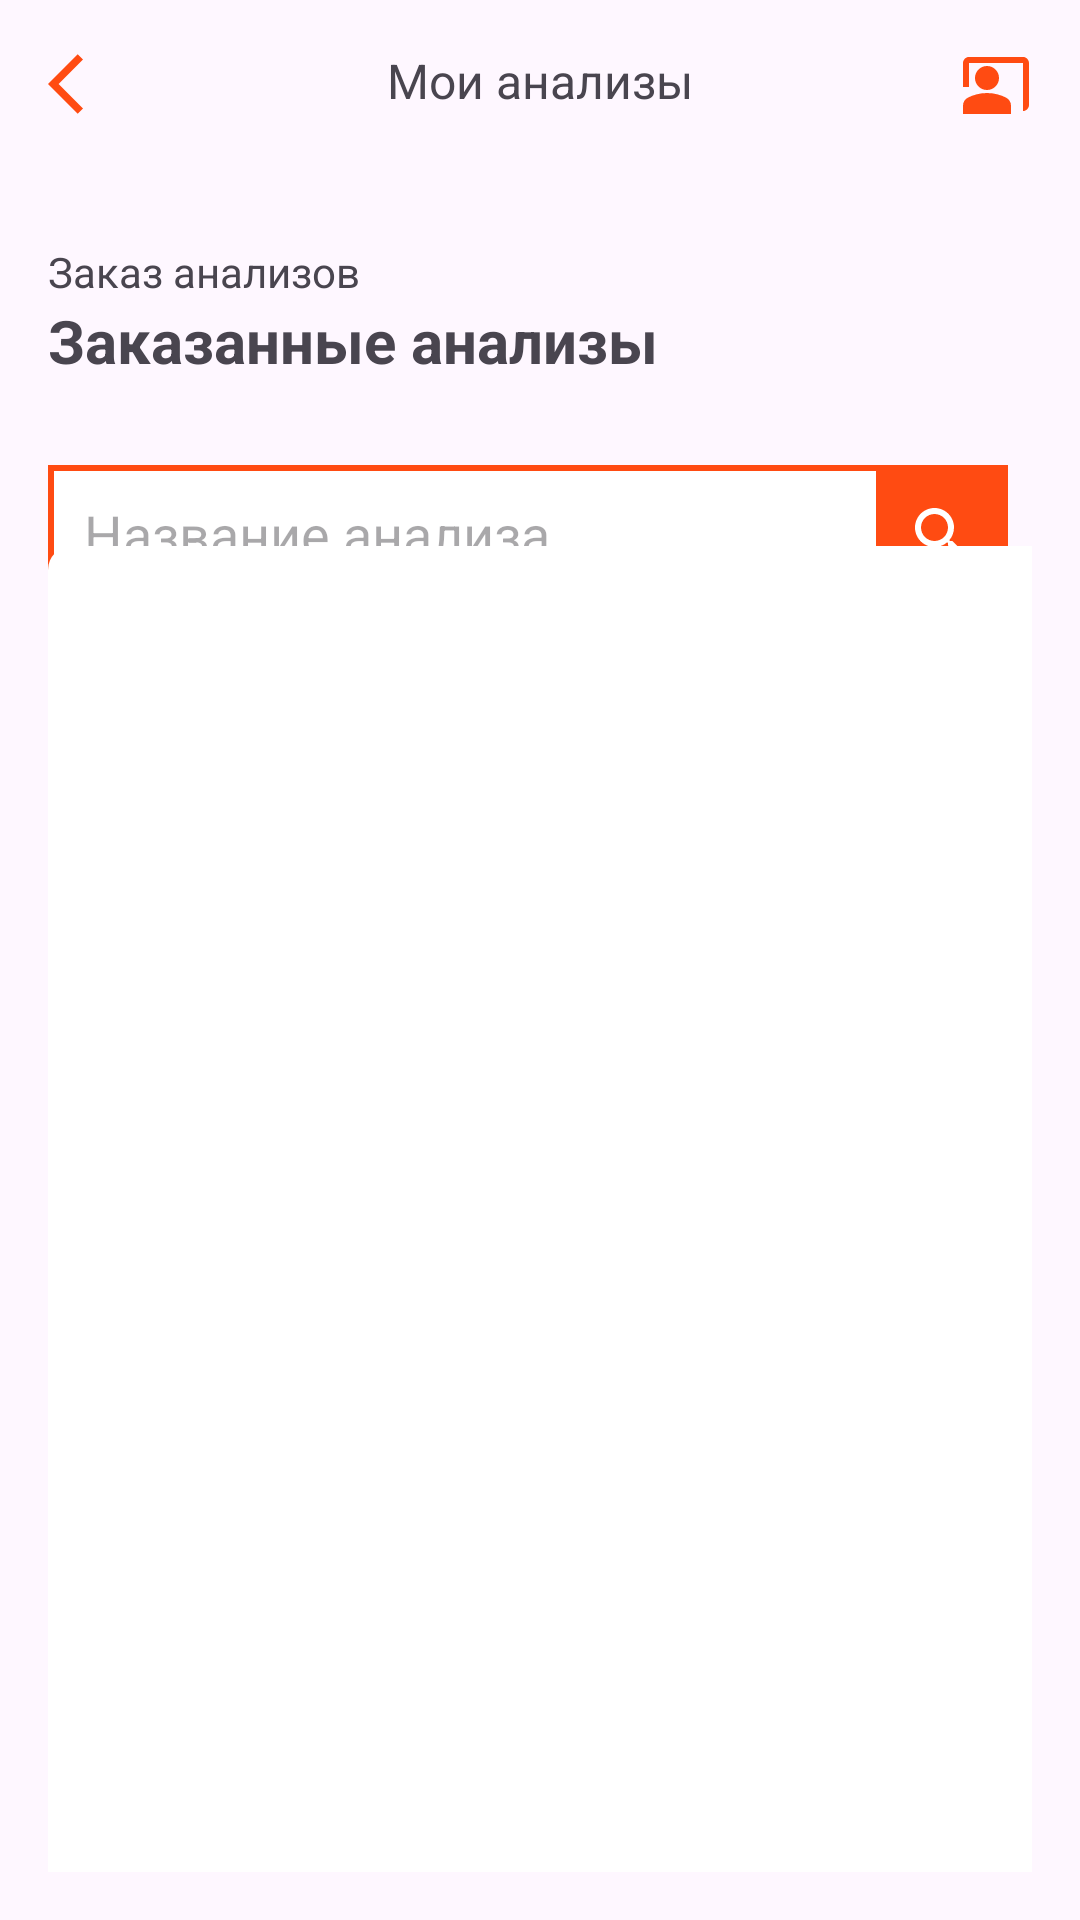

Locate icon controls on the screen. Image size 1080px x 1920px, boxes as (x1, y1, x2, y2).
Назад: (48, 54, 83, 114)
Профиль: (963, 57, 1029, 114)
